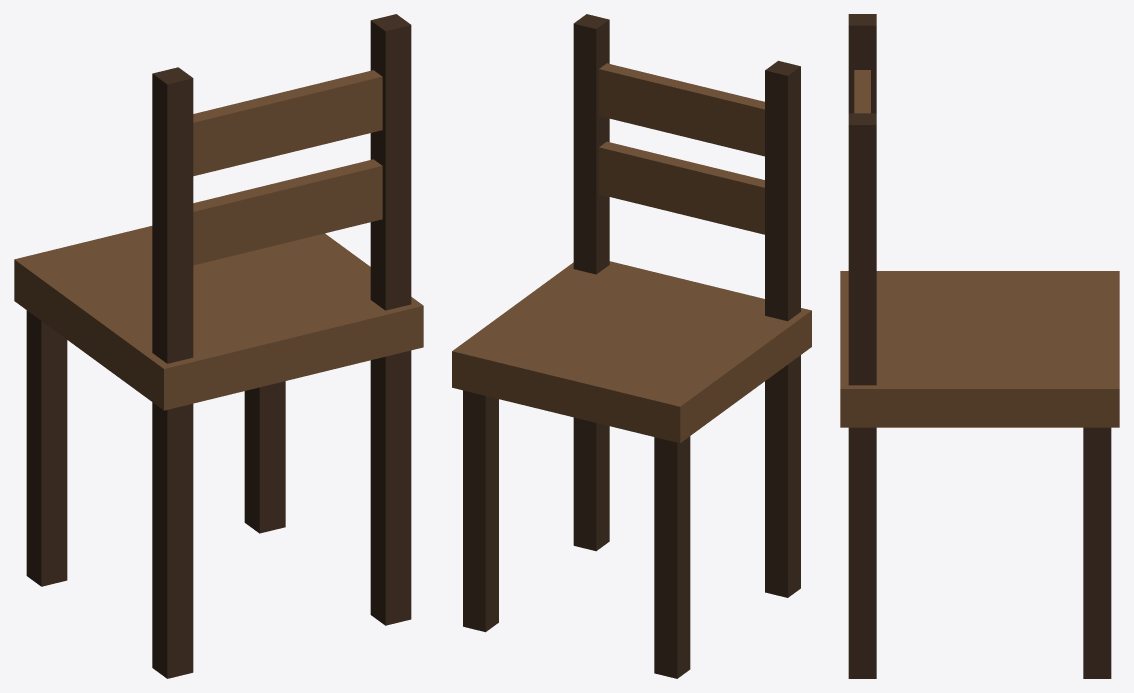
The model's file is SM_Wood_Chair_A.glb.
3 renders of one model, left to right at view 1: azimuth 30°, elevation 25°; view 2: azimuth 150°, elevation 25°; view 3: azimuth 270°, elevation 25°, orthographic. The views are drawn at different scales.
Parts seen in each view (by area): view 1: SM_Wood_Chair_A; view 2: SM_Wood_Chair_A; view 3: SM_Wood_Chair_A.
Boxes of the visible parts, box(x1,y1,x2,y2) form: SM_Wood_Chair_A: box(14, 14, 423, 678); SM_Wood_Chair_A: box(452, 14, 811, 678); SM_Wood_Chair_A: box(840, 14, 1119, 678).
Size of the model in its own units: 0.442 by 0.967 by 0.442.
Materials: 1 (1 with a texture image).
